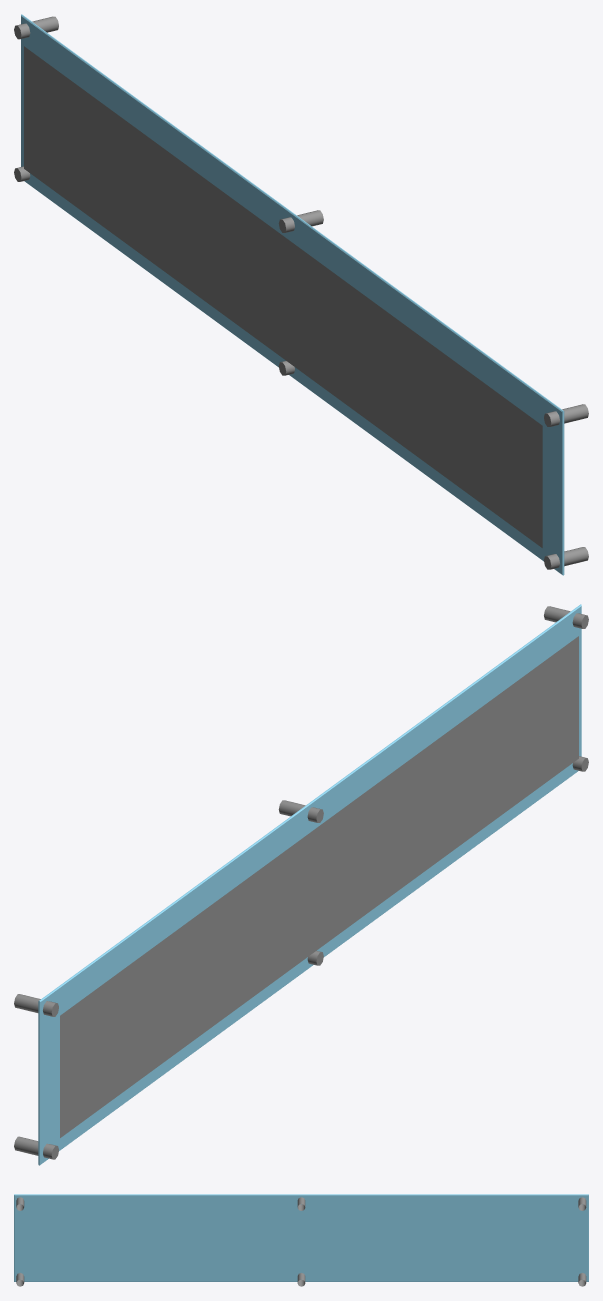
The model's file is Message_01.FBX.
The picture shows the model from 3 angles, top to bottom: view 1: azimuth 30°, elevation 25°; view 2: azimuth 150°, elevation 25°; view 3: azimuth 270°, elevation 25°; orthographic projection. The views are drawn at different scales.
Visible parts, largest first — view 1: Message_01, Back_01; view 2: Message_01, Back_01; view 3: Back_01.
Boxes of the visible parts, left/top/right/bottom form: Message_01: left=24, top=46, right=542, bottom=547; Back_01: left=14, top=14, right=588, bottom=575; Message_01: left=60, top=636, right=578, bottom=1137; Back_01: left=14, top=604, right=588, bottom=1165; Back_01: left=14, top=1194, right=588, bottom=1286.
Size of the model in its own units: 0.4822 by 2.01 by 12.01.
